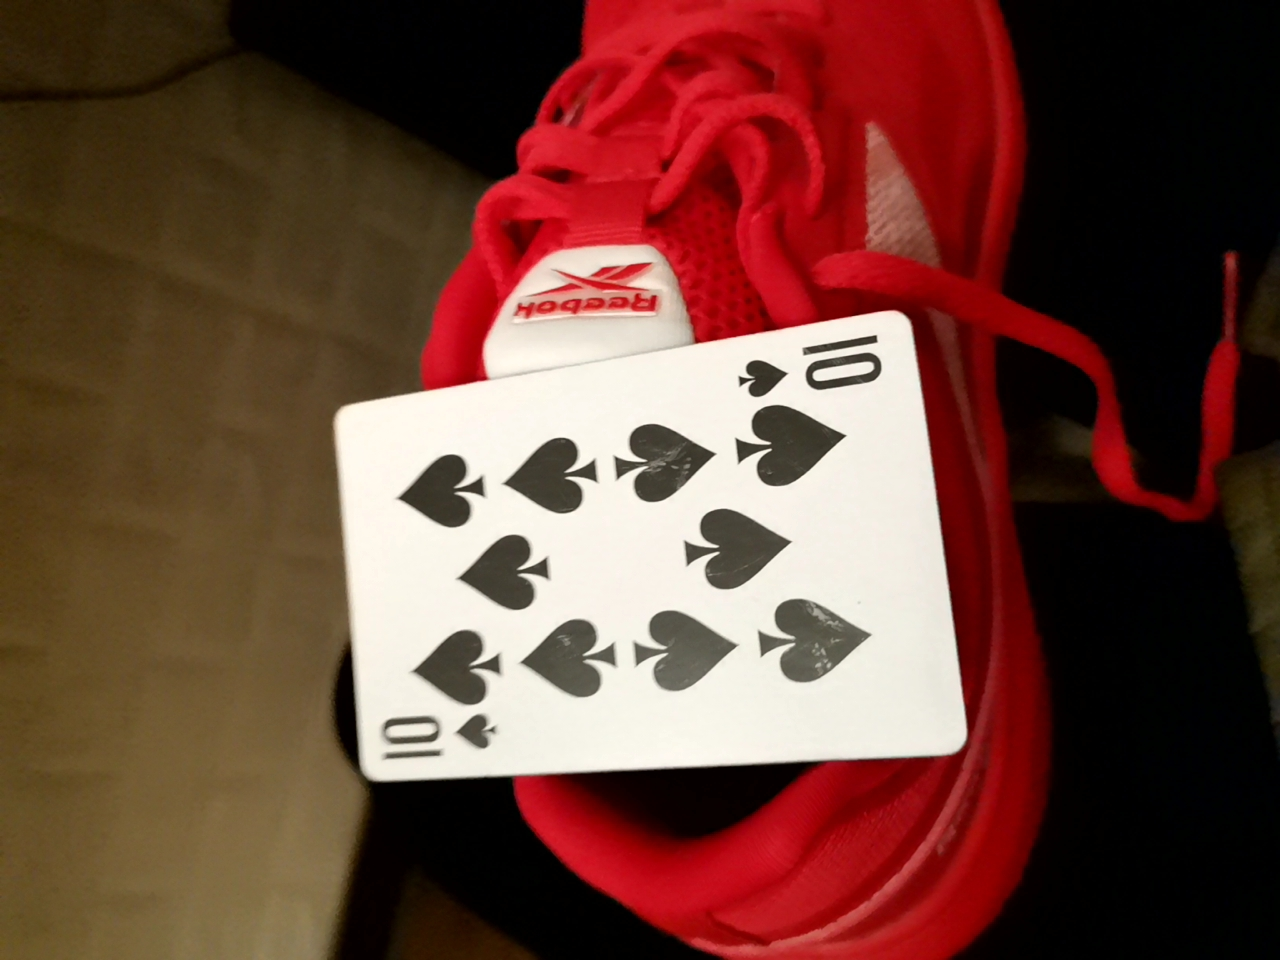ht 10: (262, 276, 955, 785)
